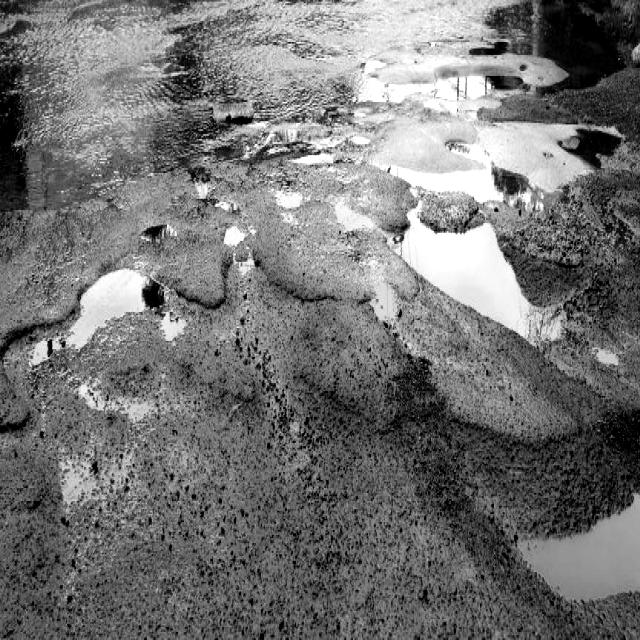pathole: (361, 79, 640, 640), (2, 219, 179, 467), (197, 150, 360, 305)
